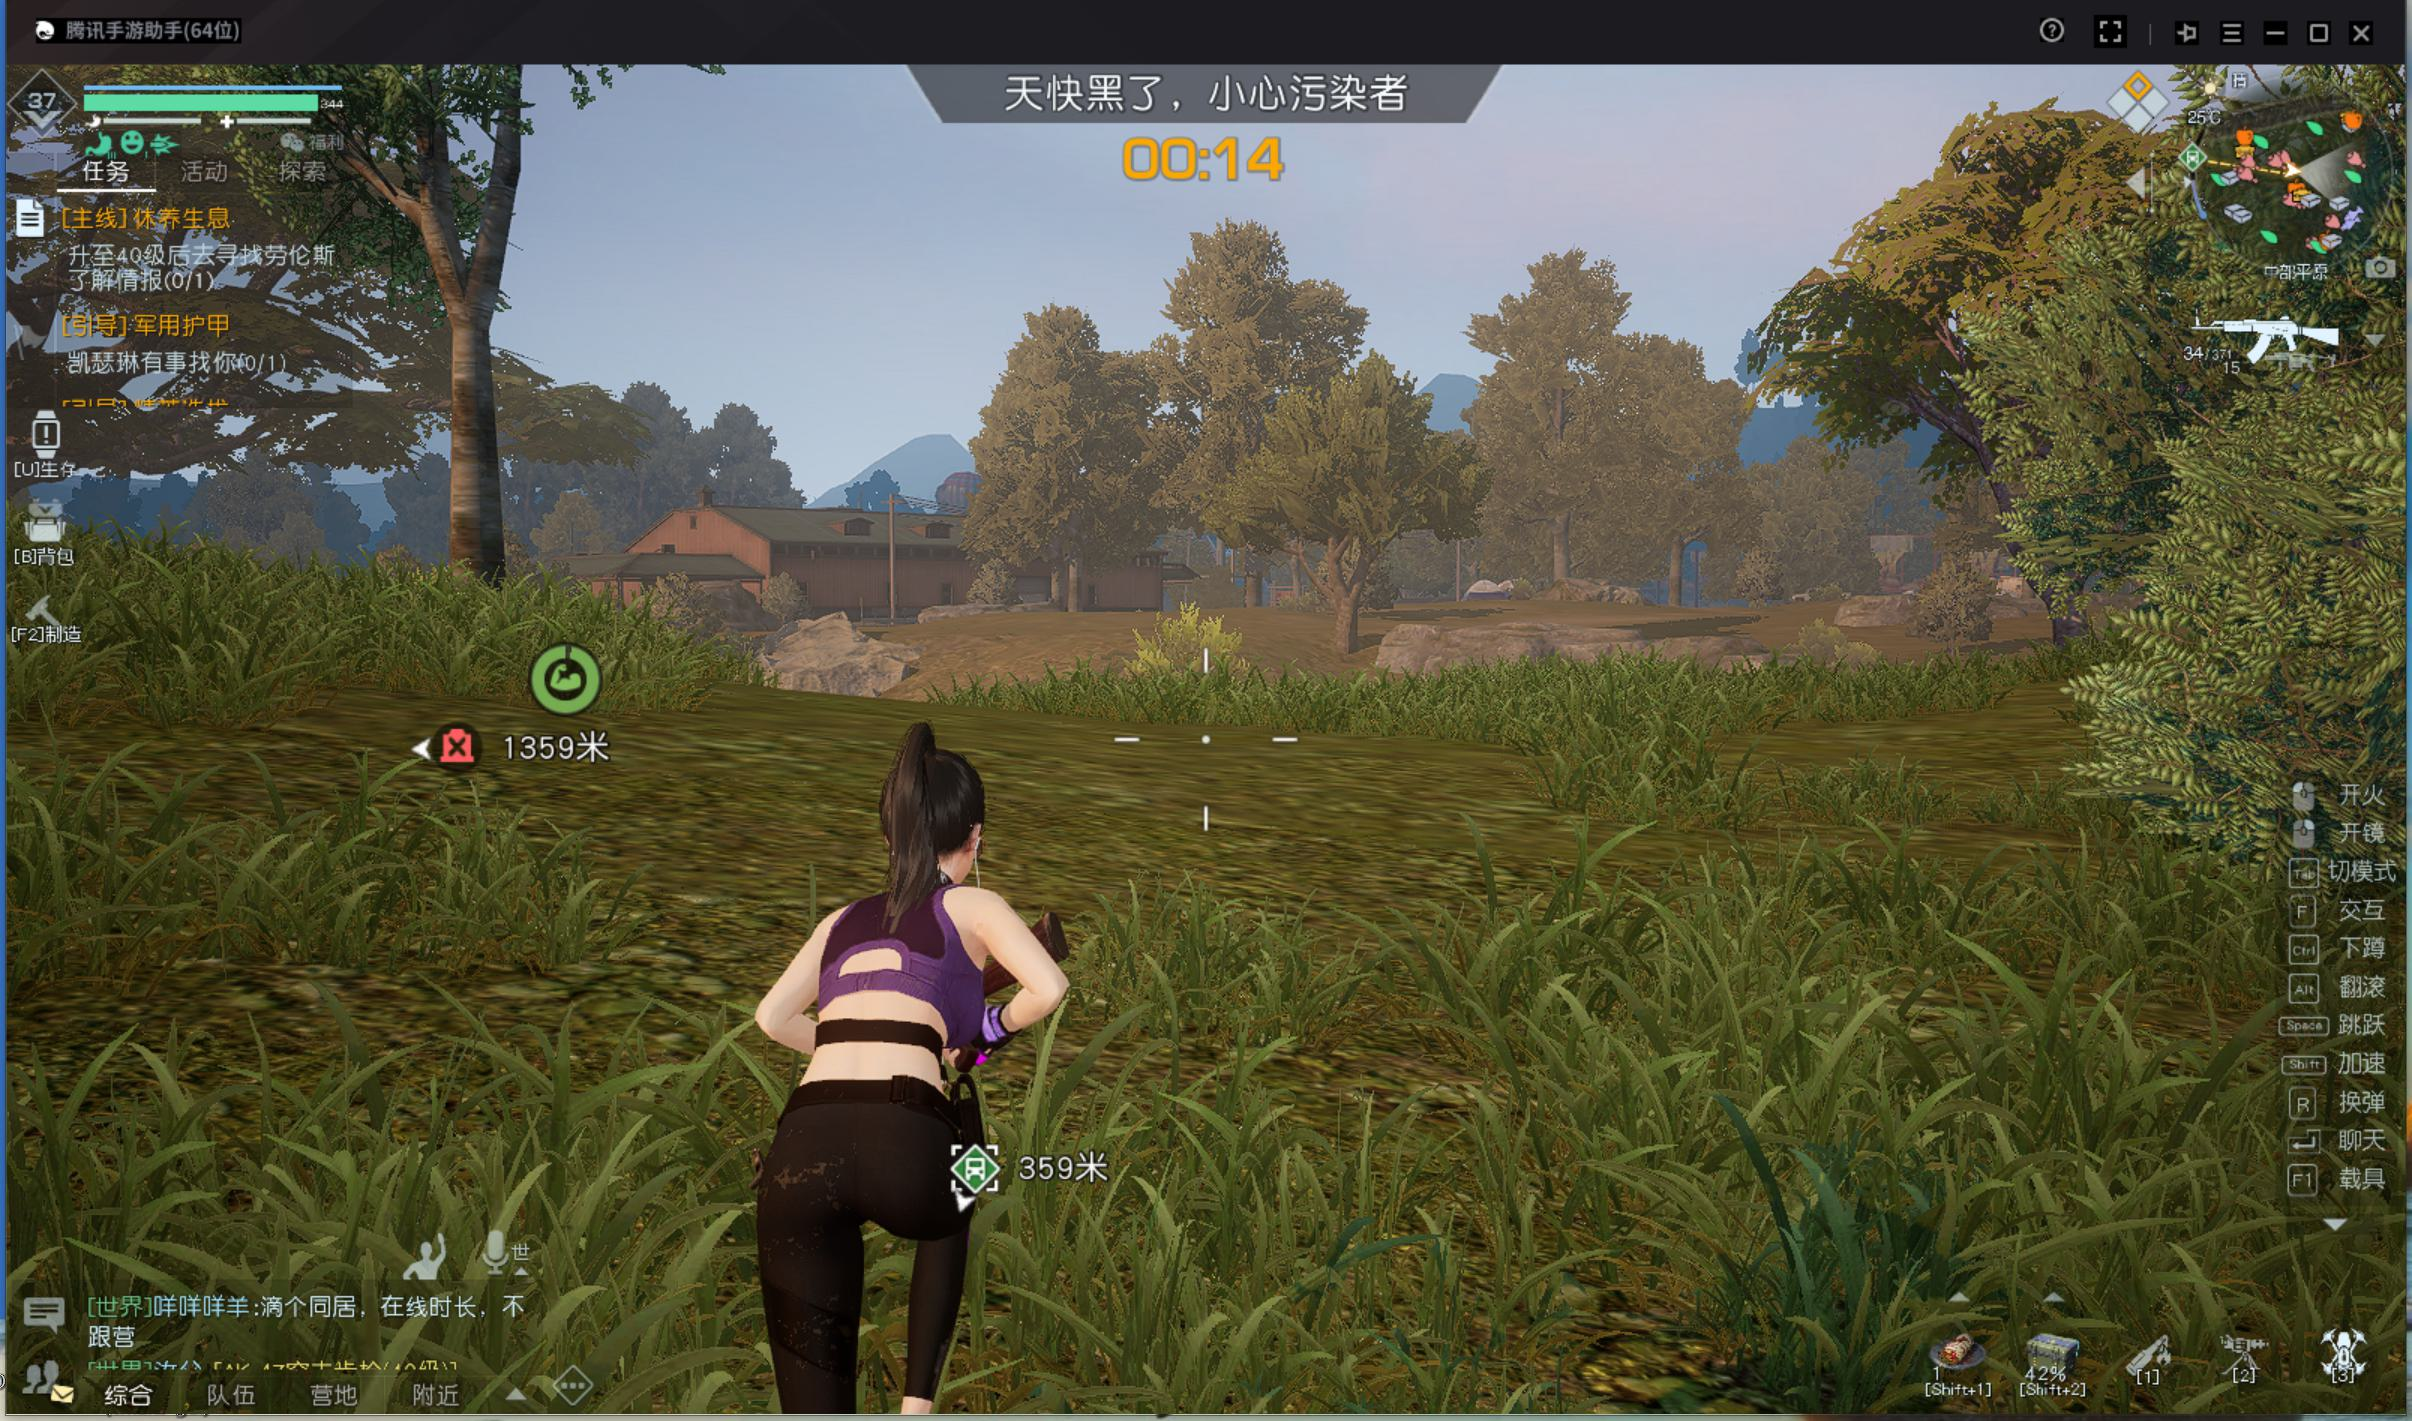tree: (418, 284, 528, 626), (1319, 579, 1373, 660), (1541, 504, 1583, 590), (1664, 546, 1690, 611)
